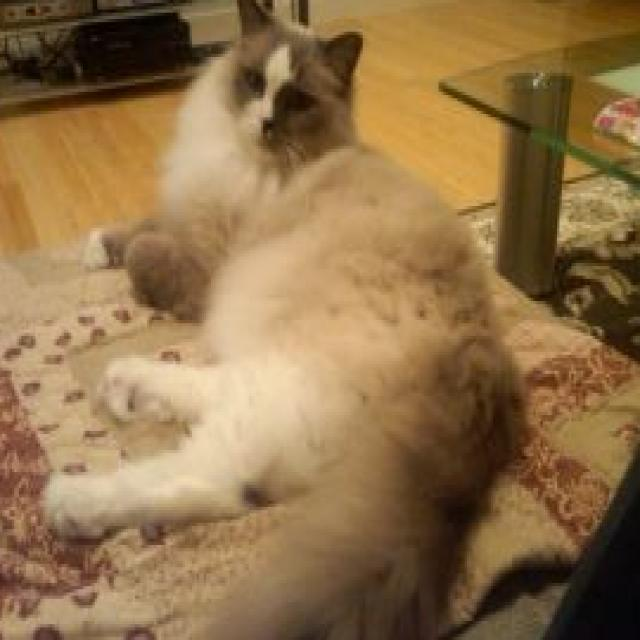Ragdoll: (36, 0, 536, 640)
